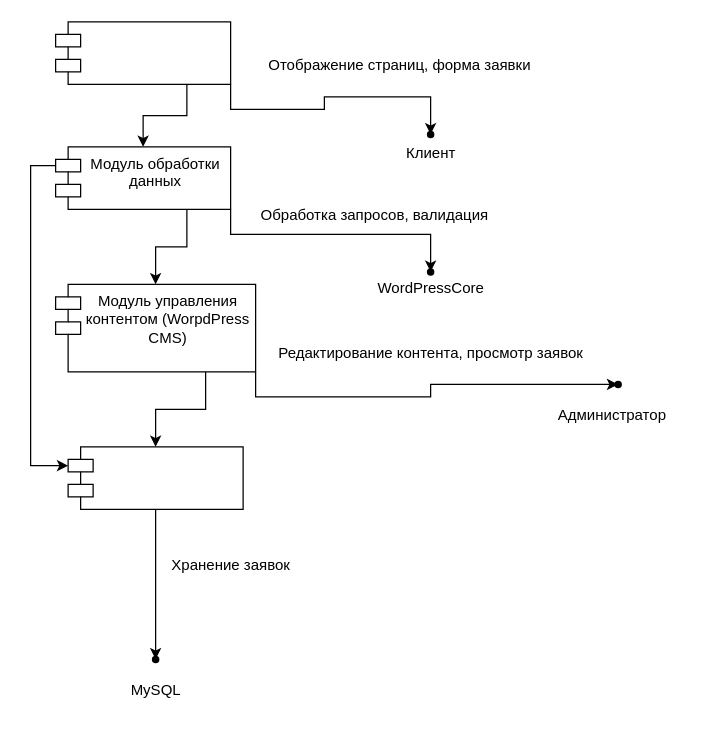
This 703x731 diagram has some shape labels left out. The shapes that lost their labels are listed below. From the top down, each one's centre as x and y in pixels, then its label:
pixel 142 52: Модуль интерфейса пользователя
pixel 155 477: Модуль базы данных
